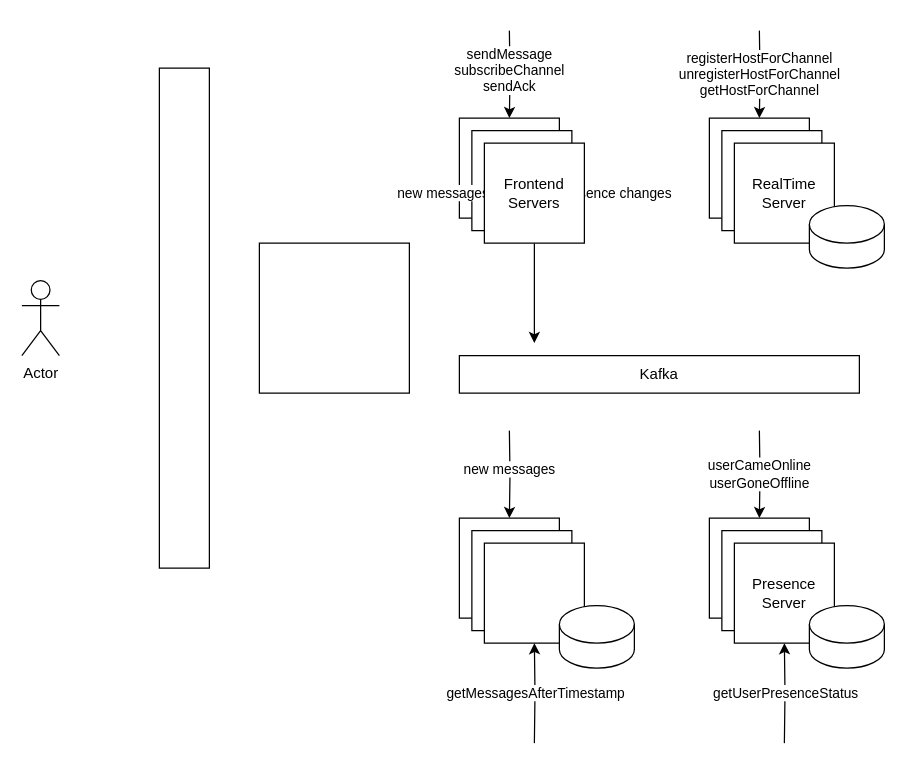
Image size: 906x775. Some labels were removed from this diagram. Here are the shapes that lost their labels. From the top down, the box of each, then its label:
(158, 67, 209, 568): LB(s)
(258, 242, 409, 393): API Gateway
(483, 542, 584, 643): Message Store
